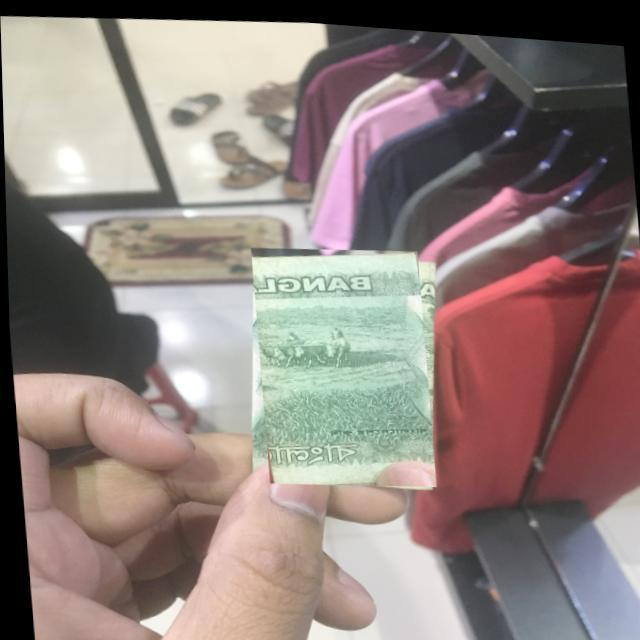Taka: (249, 236, 434, 489)
